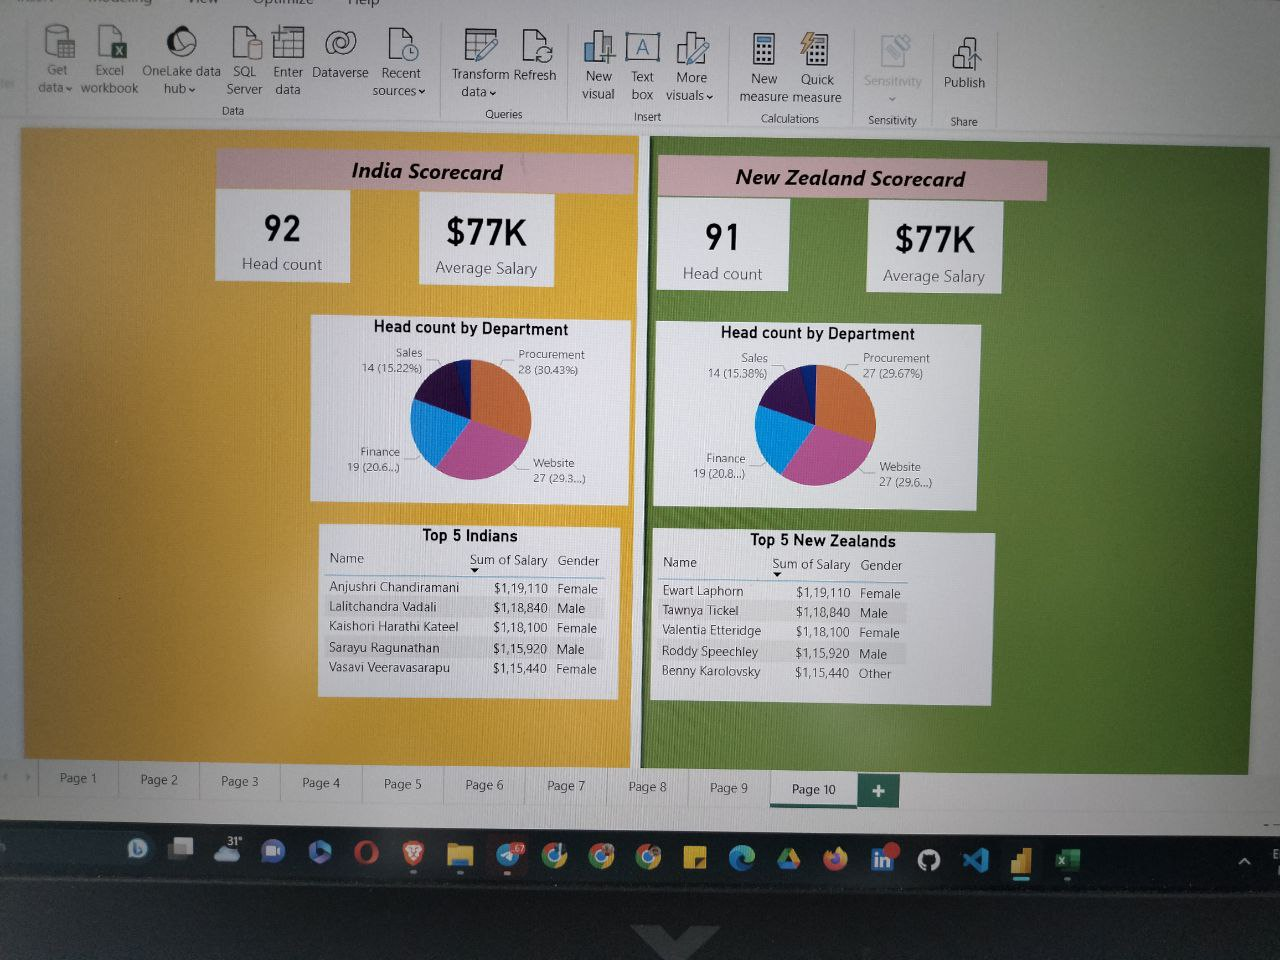

This screenshot's page, from the dashboard's own definition file:
{"tool":"powerbi","page":{"name":"Page 10","canvas":[1280,720],"ordinal":9},"visuals":[{"type":"textbox","box":[201.1,18.9,425.6,40],"z":0},{"type":"card","fields":{"Values":["Data.Head count"]},"box":[200.9,60,137.3,93.6],"z":1},{"type":"card","fields":{"Values":["Data.Head count"]},"box":[651.8,60.9,135.5,93.6],"z":2},{"type":"card","fields":{"Values":["Data.Average"]},"box":[409.1,60,137.3,93.6],"z":3},{"type":"card","fields":{"Values":["Data.Average"]},"box":[868.2,60.9,137.3,93.6],"z":4},{"type":"pieChart","fields":{"Category":["Data.Department"],"Y":["Data.Head count"]},"box":[299.1,186.4,327.3,190.9],"z":5},{"type":"pieChart","fields":{"Category":["Data.Department"],"Y":["Data.Head count"]},"box":[652.2,186.7,333.3,191.1],"z":6},{"type":"tableEx","title":"Top 5 Indians","fields":{"Values":["Data.Name","Sum(Data.Salary)","Data.Gender"]},"box":[308.2,400.9,310,179.1],"z":7},{"type":"tableEx","title":"Top 5 New Zealands","fields":{"Values":["Data.Name","Sum(Data.Salary)","Data.Gender"]},"box":[652.2,401.1,353.3,178.9],"z":8},{"type":"textbox","box":[652.2,18.9,397.8,41.1],"z":9}]}

Visuals, with their boxes on the page's 1280x720 design canvas (x1, y1, x2, y2). These are canvas units, not pixel positions in the 1280x960 screenshot, which may show the page scaled, cropped or inside an application window:
textbox: [201,19,627,59]
card - Data.Head count: [201,60,338,154]
card - Data.Head count: [652,61,787,154]
card - Data.Average: [409,60,546,154]
card - Data.Average: [868,61,1006,154]
pieChart - Data.Department x Data.Head count: [299,186,626,377]
pieChart - Data.Department x Data.Head count: [652,187,986,378]
"Top 5 Indians" tableEx: [308,401,618,580]
"Top 5 New Zealands" tableEx: [652,401,1006,580]
textbox: [652,19,1050,60]
